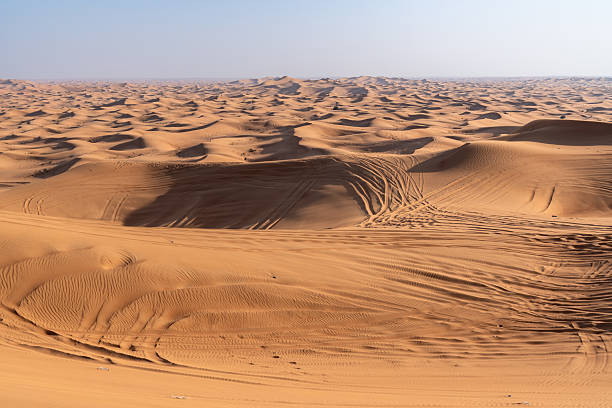vehicle_track: (487, 252, 610, 379), (330, 159, 441, 231), (8, 312, 141, 353), (258, 176, 317, 229), (27, 185, 96, 218), (147, 315, 185, 364), (126, 304, 155, 360)
